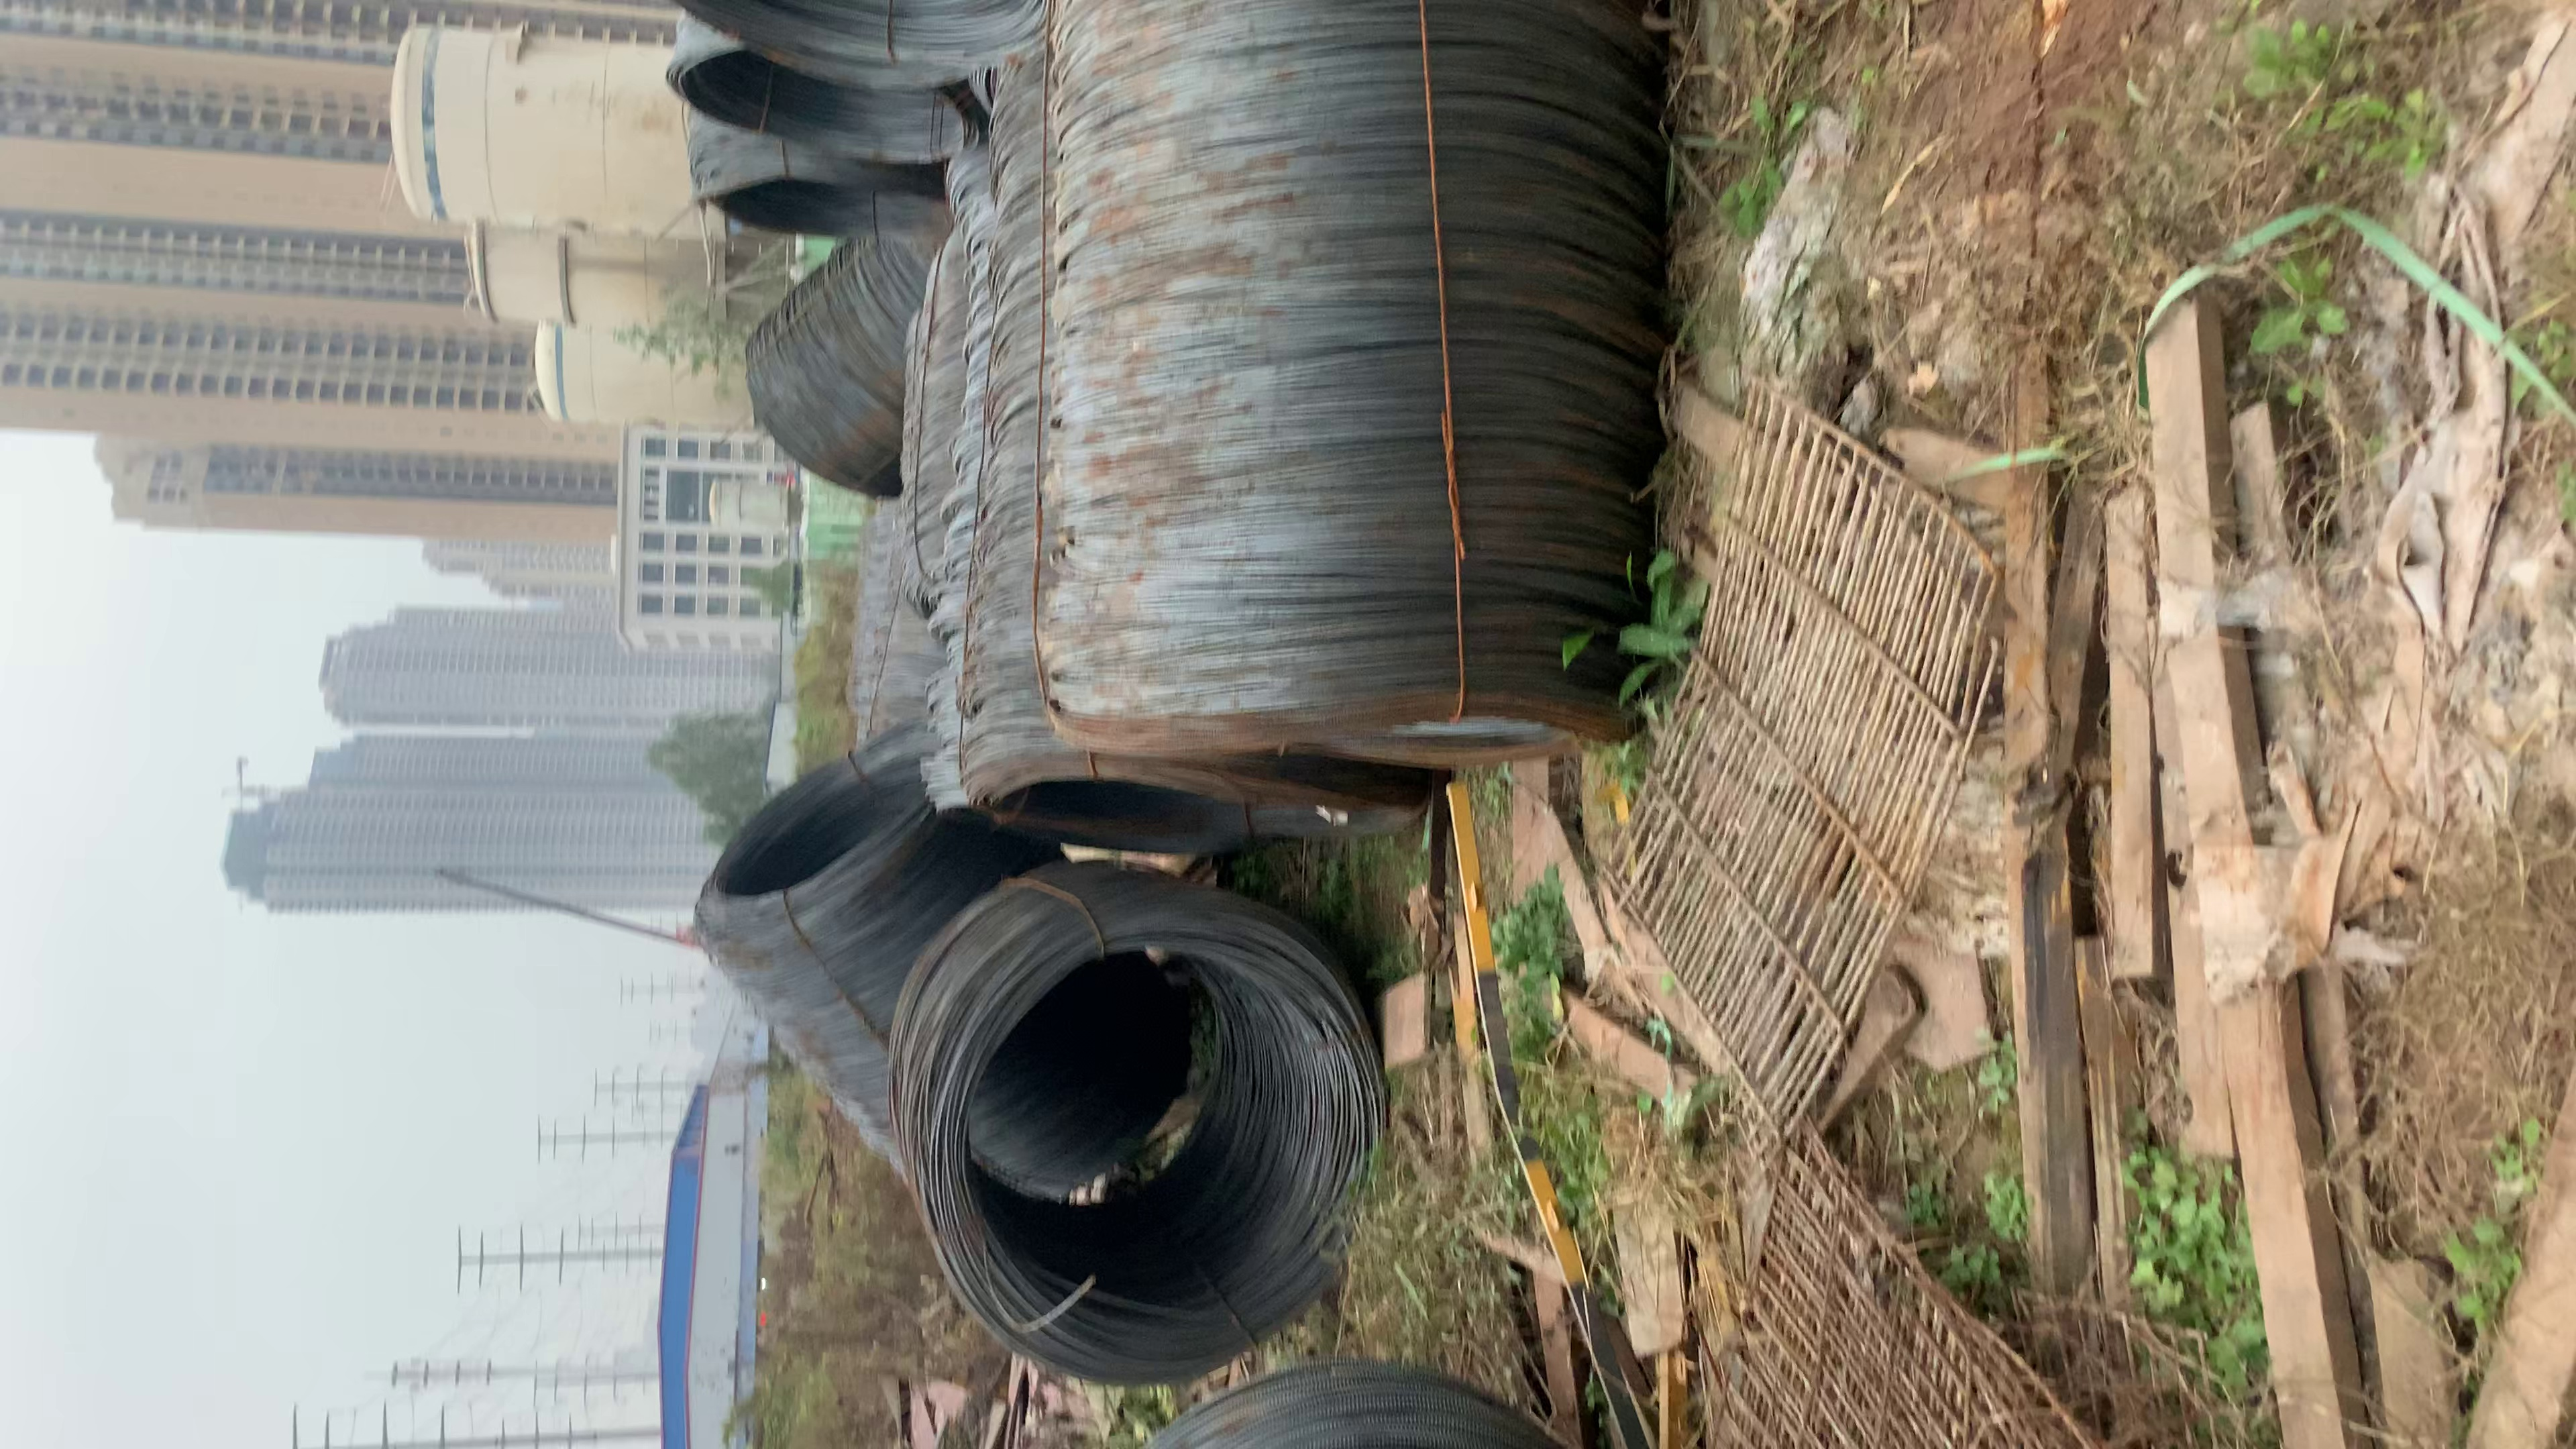coil: (908, 931, 1375, 1375), (692, 718, 948, 941), (975, 759, 1444, 879), (669, 51, 996, 196), (667, 0, 1063, 62), (688, 177, 948, 249)
